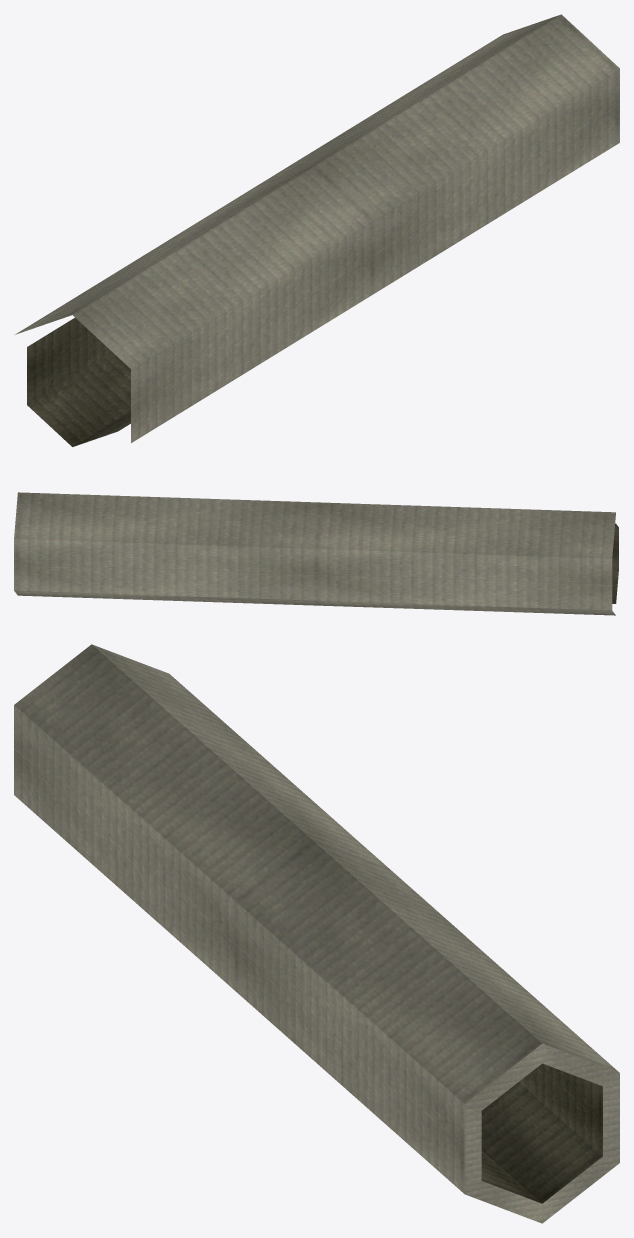
3 views of the same model, one above another, from view 1: azimuth 30°, elevation 25°; view 2: azimuth 150°, elevation 25°; view 3: azimuth 270°, elevation 25° (orthographic). The views are drawn at different scales.
Parts seen in each view (by area): view 1: Tube01; view 2: Tube01; view 3: Tube01.
Part boxes in pixels (box(x1,y1,x2,y2)): Tube01: box(15, 14, 619, 446); Tube01: box(14, 492, 618, 615); Tube01: box(14, 644, 619, 1223).
Size of the model in its own units: 4254 by 830 by 2530.
Materials: 3 (3 with a texture image).
